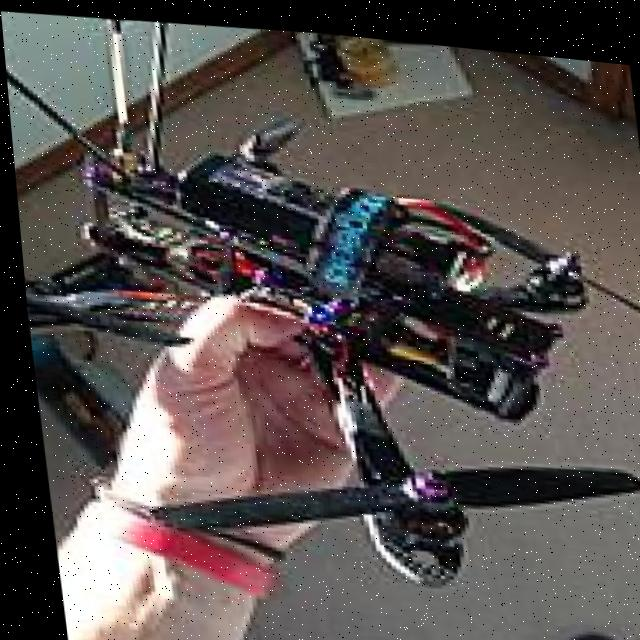drones: (0, 0, 640, 613)
